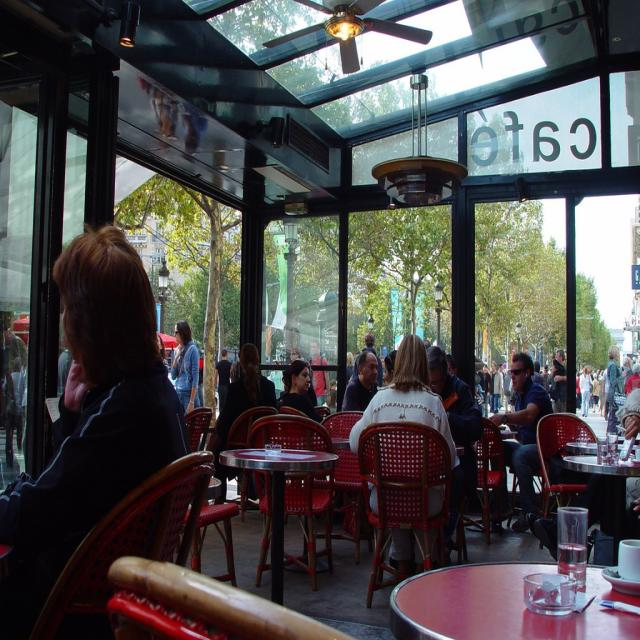body: (0, 220, 192, 639), (345, 330, 461, 572), (522, 397, 640, 574), (424, 346, 484, 568), (487, 350, 555, 533), (212, 342, 278, 506), (338, 348, 380, 452), (277, 358, 324, 424), (170, 319, 201, 416), (1, 355, 26, 470), (267, 345, 305, 403), (605, 344, 628, 438), (352, 332, 384, 389), (307, 338, 332, 408), (213, 348, 233, 417), (530, 361, 556, 410), (548, 348, 567, 414), (618, 350, 640, 398), (191, 336, 204, 410), (375, 348, 399, 387), (477, 363, 492, 420), (578, 366, 594, 418), (488, 360, 503, 415), (154, 332, 170, 378), (494, 363, 508, 412), (473, 352, 484, 408), (342, 349, 357, 388), (600, 366, 610, 421), (502, 369, 513, 414), (443, 351, 460, 377), (596, 384, 608, 420), (591, 372, 600, 413), (588, 367, 607, 385), (576, 372, 582, 408), (420, 339, 432, 352), (586, 392, 594, 411), (486, 365, 494, 377)
